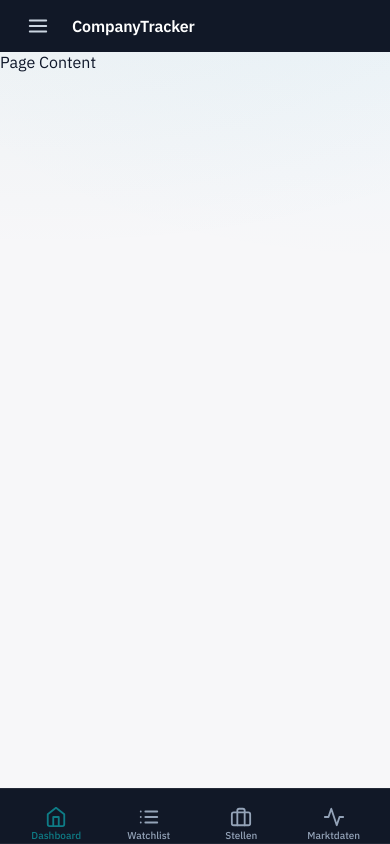
Test: AppLayout — mobile › closes the drawer when the close button is clicked
This screenshot has width=390, height=844.
Click the button named "navigation öffnen" at (38, 26), box [16,4,60,48]
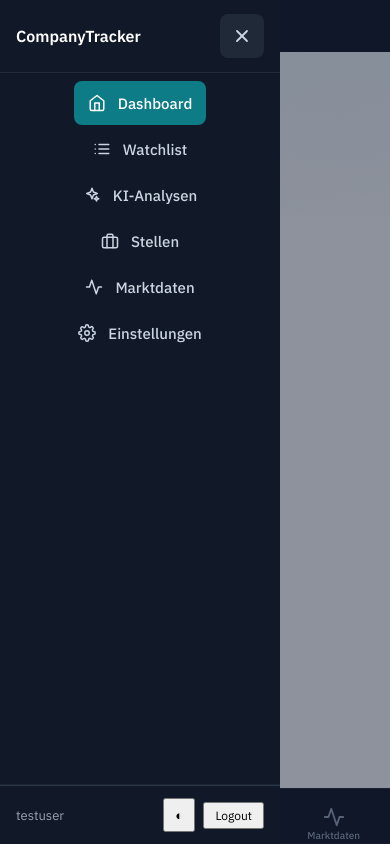
Expected: the dialog named "navigation" is shown
Click the button named "navigation schließen" at (242, 36), box [220,14,264,58]
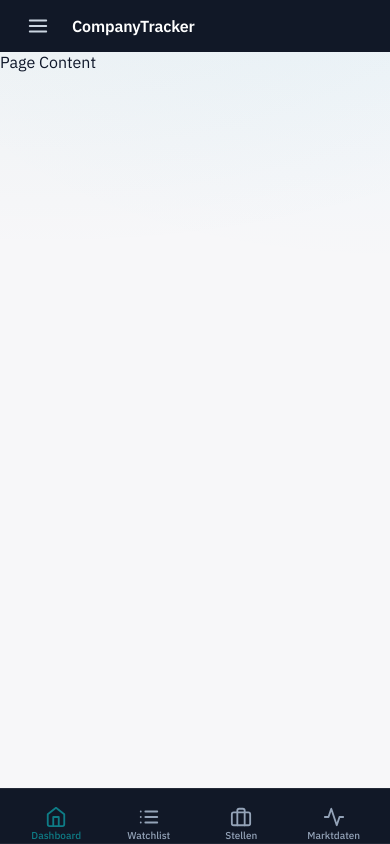
Expected: the button "navigation" is gone
